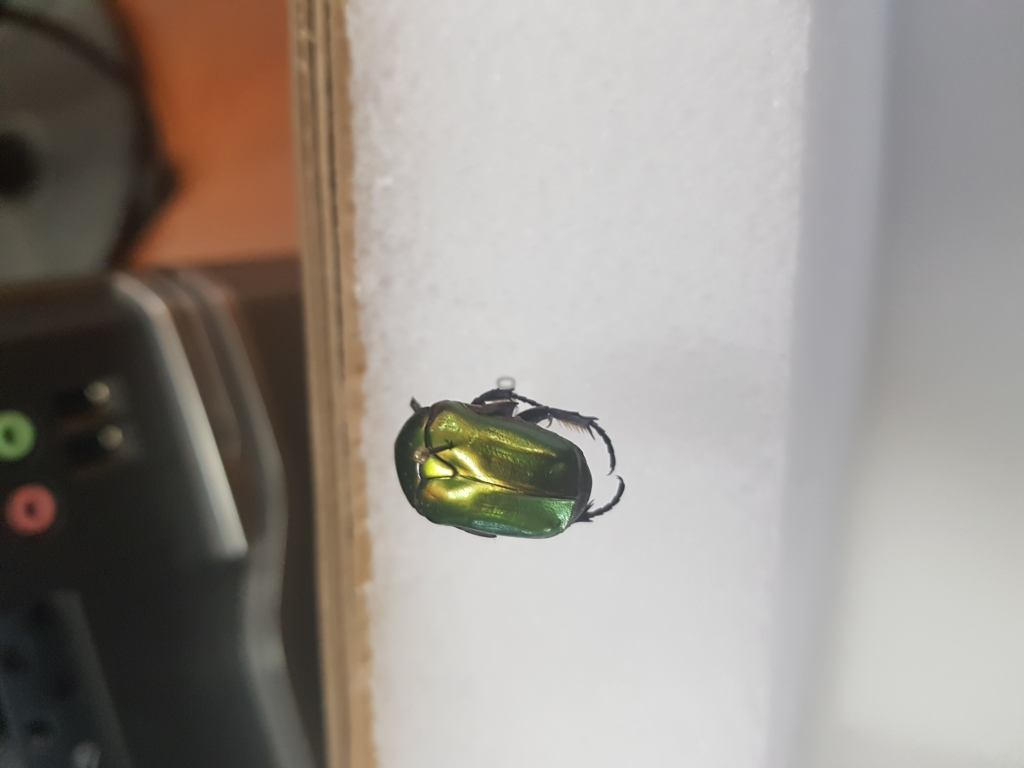Protaetia_cuprea_ignicollis: (391, 375, 641, 545)
